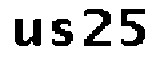2: (78, 6, 114, 50)
5: (119, 8, 150, 49)
s: (48, 15, 74, 48)
u: (11, 16, 43, 50)
